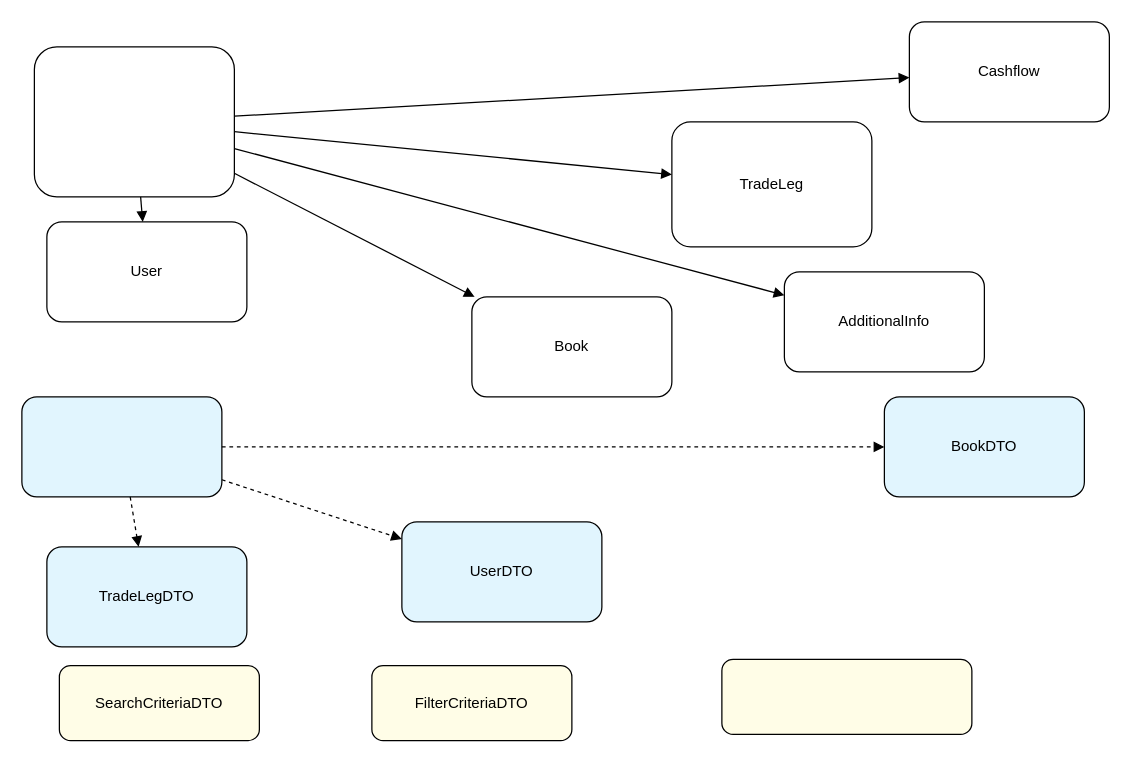
This 1131x763 diagram has some shape labels left out. Here are the shapes that lost their labels. From the top down, the centre of each, then its label:
At (x=133, y=121): "Trade".
At (x=121, y=446): "TradeDTO".
At (x=846, y=696): "SettlementInstructionsUpdateDTO".
